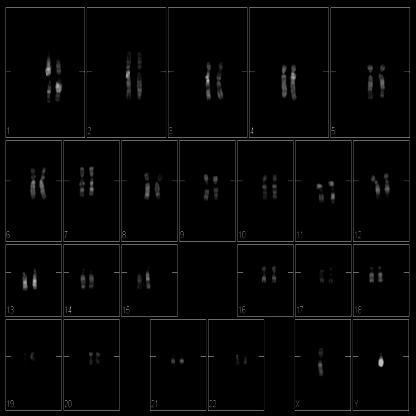1: (43, 43, 52, 109), (53, 42, 62, 108)
10: (260, 168, 270, 204), (270, 168, 278, 204)
11: (314, 178, 326, 210), (326, 178, 338, 210)
12: (367, 172, 382, 204), (382, 170, 396, 203)
13: (30, 264, 40, 297), (20, 264, 29, 297)
14: (86, 264, 96, 297), (78, 264, 86, 297)
15: (143, 262, 154, 293), (135, 265, 144, 292)
16: (260, 260, 268, 286), (270, 260, 278, 286)
17: (316, 262, 326, 288), (326, 262, 336, 287)
18: (366, 259, 376, 288), (375, 259, 385, 288)
19: (28, 343, 38, 370), (21, 343, 30, 370)
2: (124, 44, 134, 106), (134, 44, 143, 106)
20: (86, 345, 94, 369), (94, 345, 102, 369)
21: (168, 349, 177, 370), (177, 350, 186, 370)
22: (232, 349, 242, 372), (242, 350, 251, 372)
3: (214, 54, 226, 107), (202, 54, 213, 107)
4: (288, 59, 298, 101), (280, 59, 289, 101)
5: (376, 55, 388, 107), (365, 56, 376, 108)
6: (27, 160, 39, 204), (38, 160, 49, 204)
7: (77, 162, 87, 203), (86, 162, 96, 203)
8: (141, 168, 152, 205), (153, 168, 164, 205)
9: (202, 168, 210, 210), (212, 168, 219, 210)
X: (316, 339, 327, 383)
Y: (373, 346, 388, 372)
